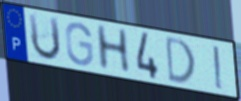4: (135, 30, 161, 82)
D: (164, 34, 197, 85)
G: (64, 20, 95, 67)
H: (94, 23, 133, 74)
I: (211, 44, 225, 92)
U: (26, 11, 63, 62)
